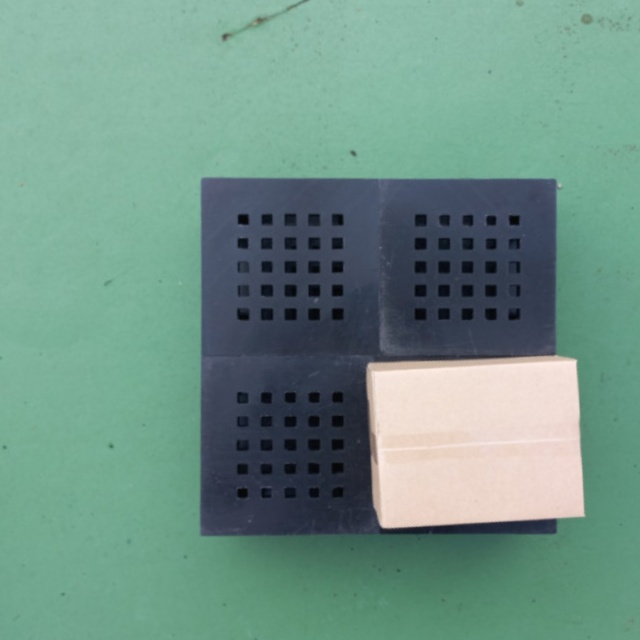box: (366, 353, 586, 531)
pallet: (194, 168, 584, 547)
